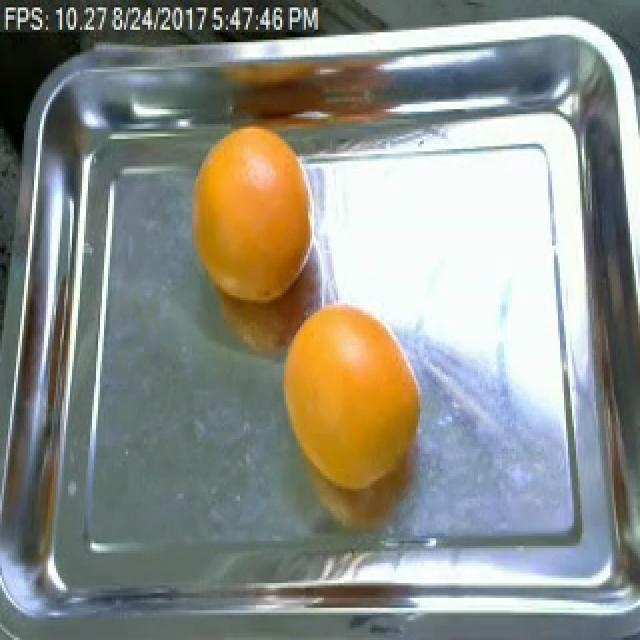Fruit: (270, 285, 436, 491), (176, 111, 320, 312)
